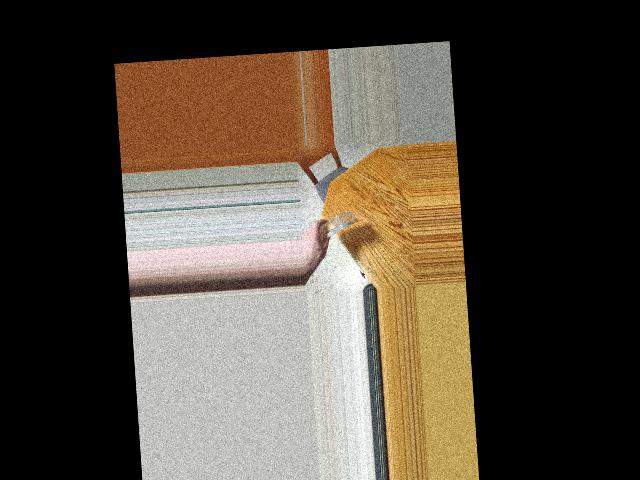cheese: (312, 210, 360, 239)
